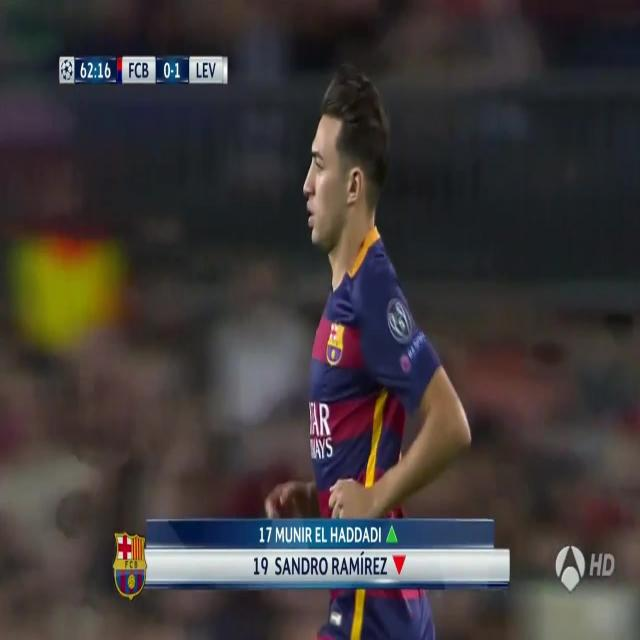Player: (300, 58, 471, 640)
